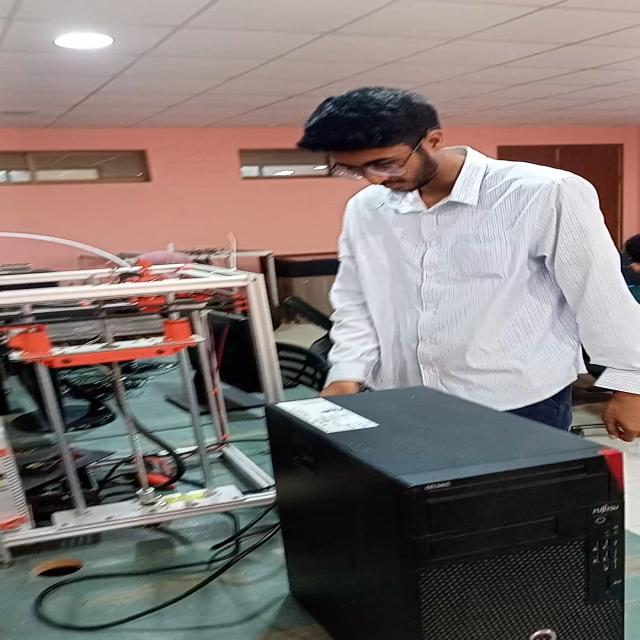dress: (295, 142, 640, 444)
glasses: (311, 152, 421, 186)
